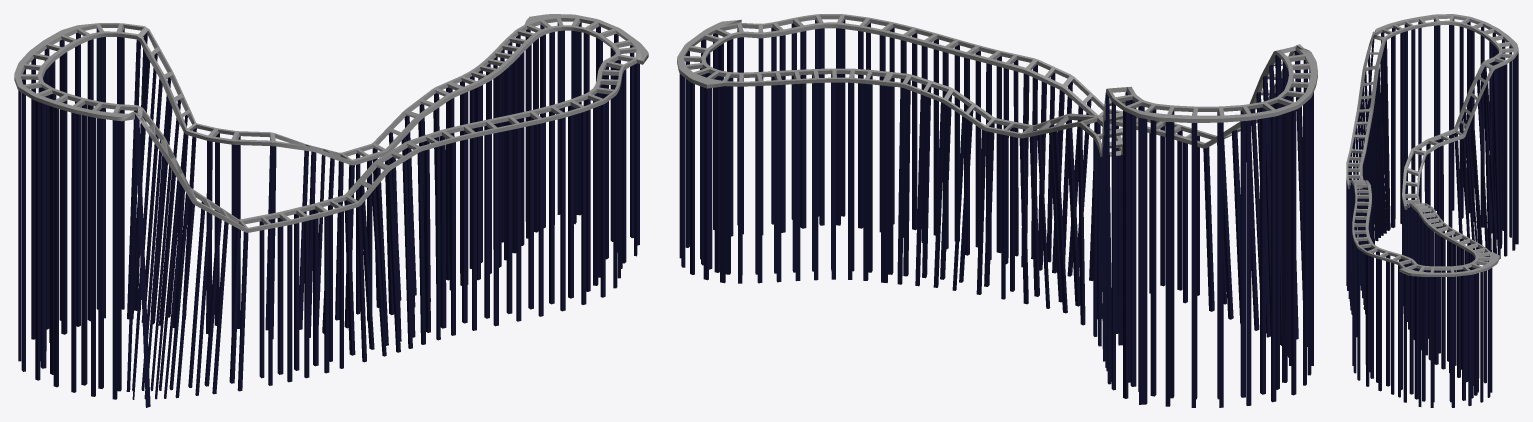
Rendered from MOD_Attraction.FBX.
The picture shows the model from 3 angles, left to right: view 1: azimuth 30°, elevation 25°; view 2: azimuth 150°, elevation 25°; view 3: azimuth 270°, elevation 25°; orthographic projection. The views are drawn at different scales.
Parts seen in each view (by area): view 1: Parcattraction; view 2: Parcattraction; view 3: Parcattraction.
Part boxes in pixels (x1,y1,x2,y2): Parcattraction: (14,14,648,407); Parcattraction: (677,14,1317,407); Parcattraction: (1346,14,1518,407).
Size of the model in its own units: 367 by 168 by 134.
